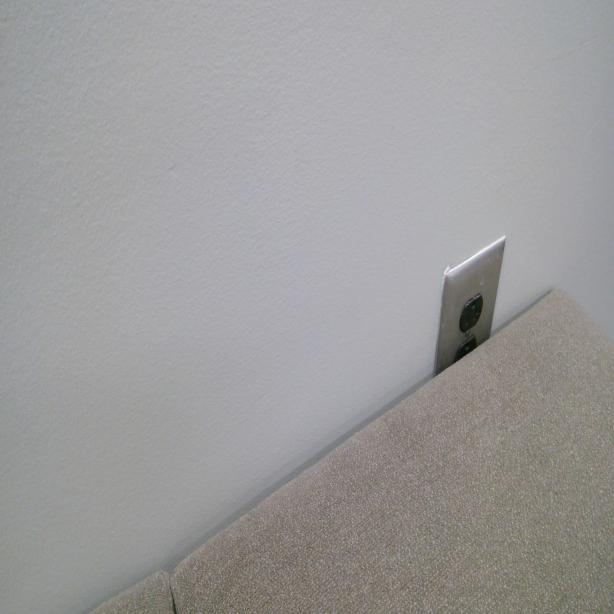typeb: (462, 297, 483, 330)
